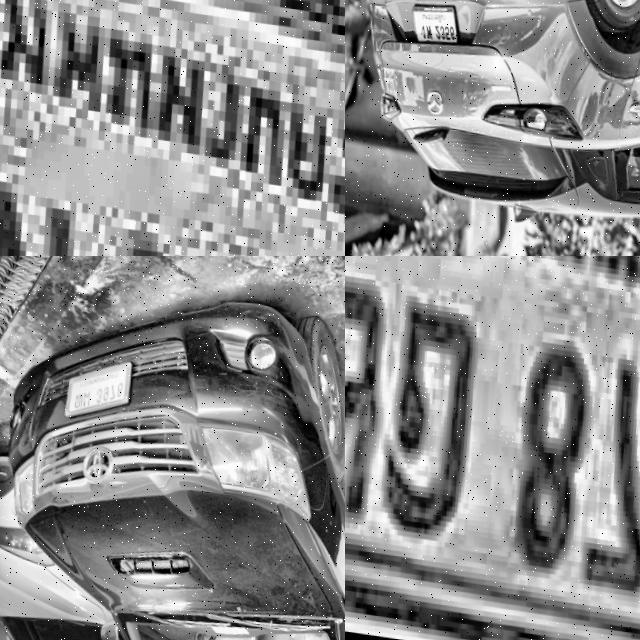license-plate: (345, 256, 640, 640), (0, 0, 345, 256), (56, 340, 133, 424), (407, 0, 456, 45)
